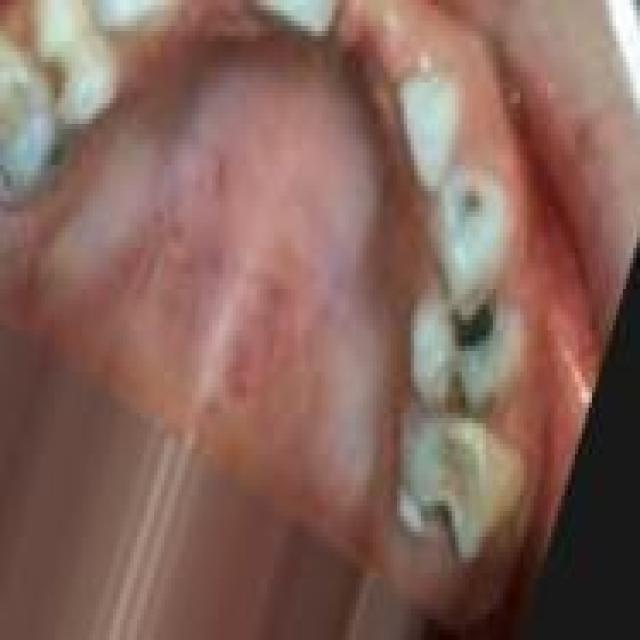caries: (417, 287, 508, 426), (0, 32, 83, 149), (413, 473, 477, 567)
